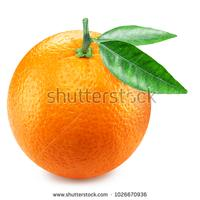orange: (6, 14, 192, 186)
